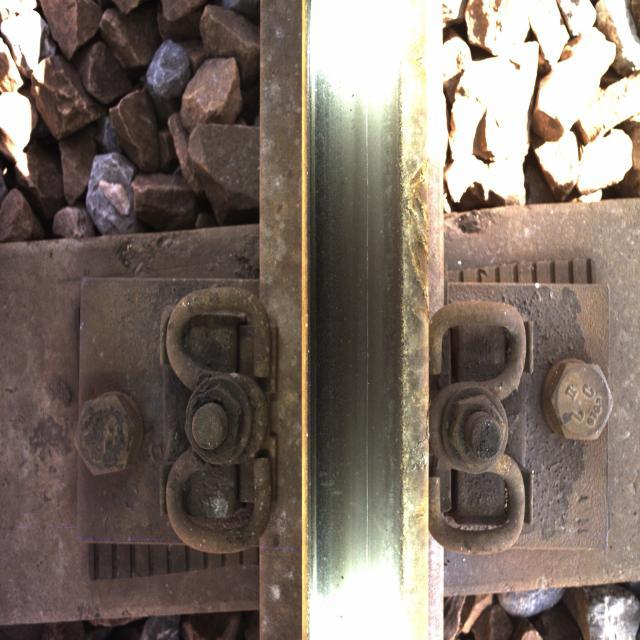normal: (335, 22, 426, 624)
